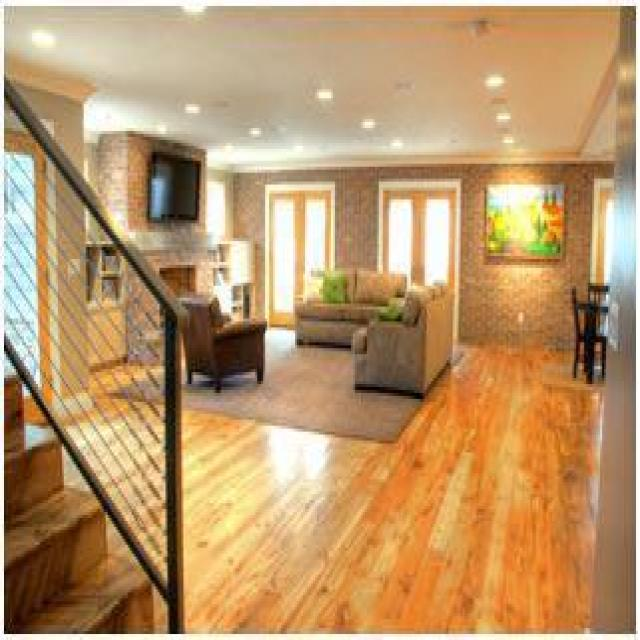other: (265, 187, 327, 314), (378, 178, 451, 282), (252, 415, 334, 482)
